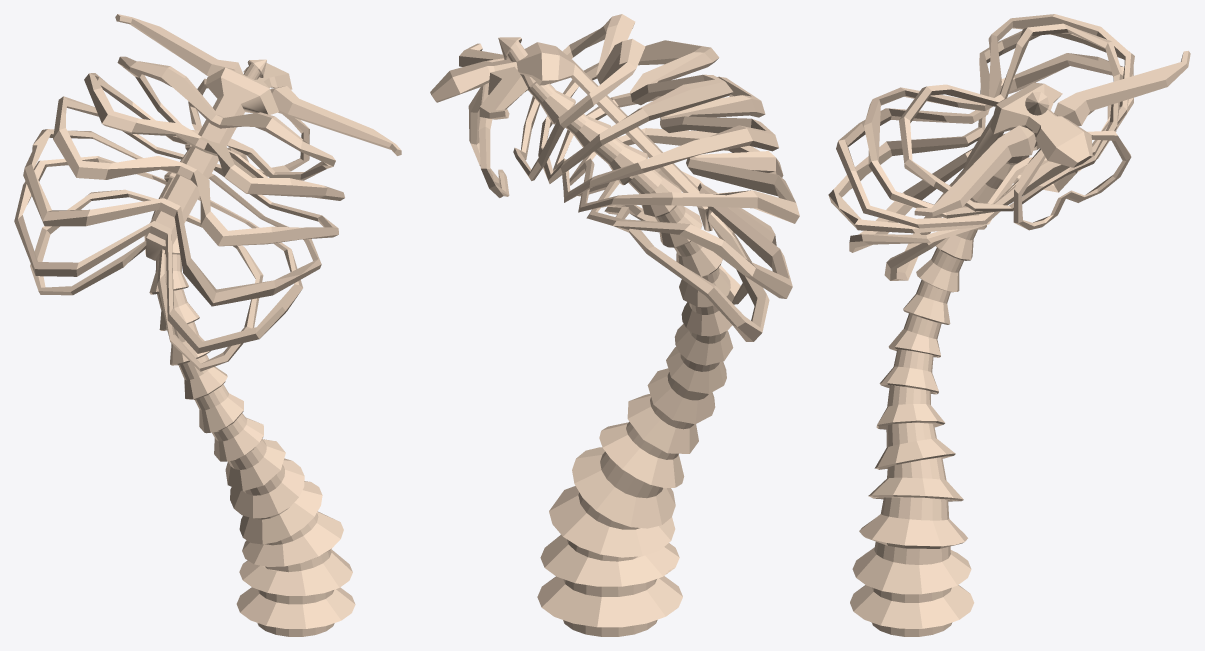
The model's file is Ribtree.fbx.
3 views of the same model, side by side, from view 1: azimuth 30°, elevation 25°; view 2: azimuth 150°, elevation 25°; view 3: azimuth 270°, elevation 25° (orthographic). The views are drawn at different scales.
Parts seen in each view (by area): view 1: Ribtree; view 2: Ribtree; view 3: Ribtree.
Boxes of the visible parts, box(x1,y1,x2,y2) form: Ribtree: box(14, 14, 401, 636); Ribtree: box(430, 14, 799, 636); Ribtree: box(828, 14, 1190, 636).
Bounding box in the file's own units: 141 × 227 × 134.
